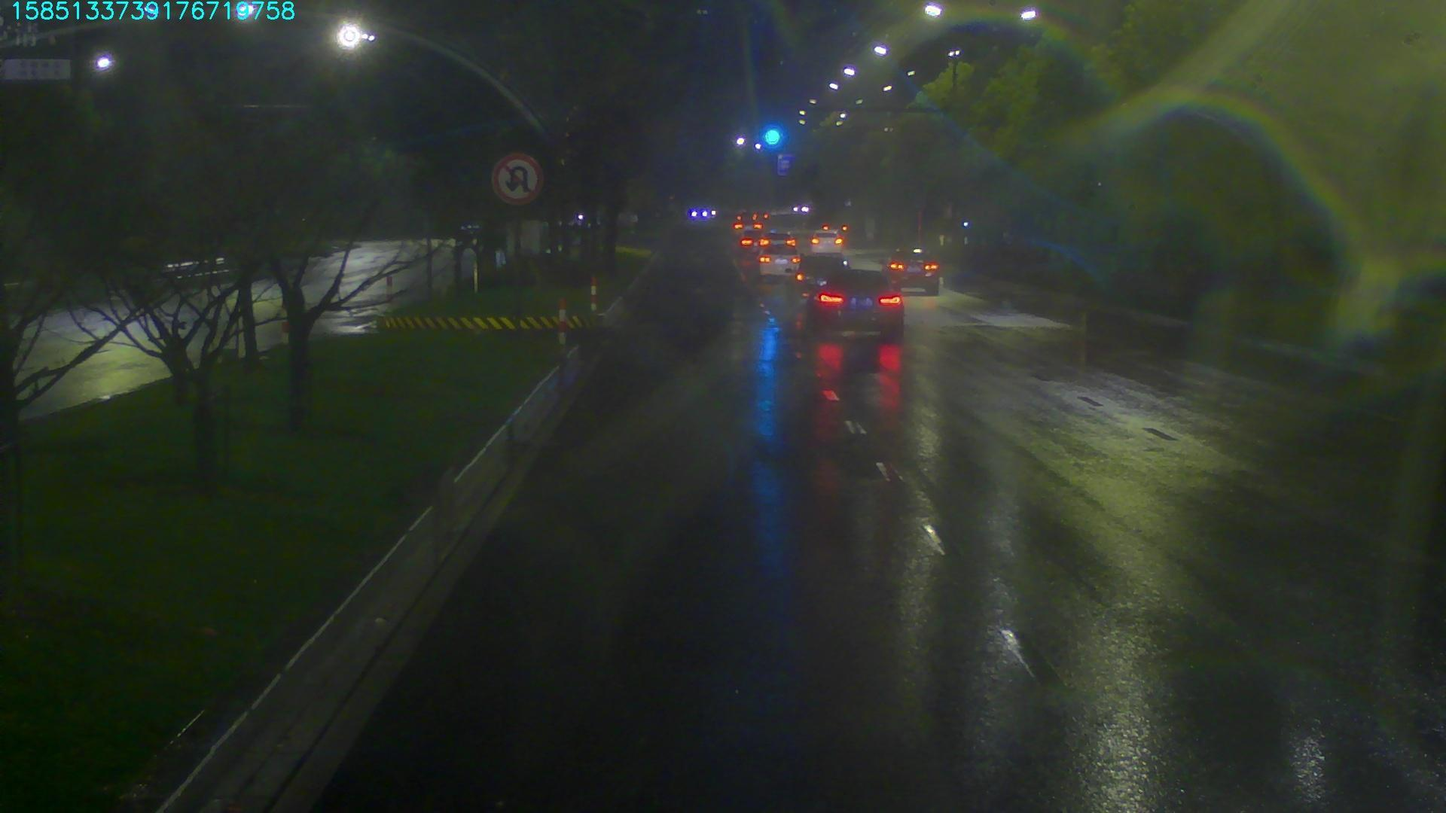green: (760, 122, 782, 146)
